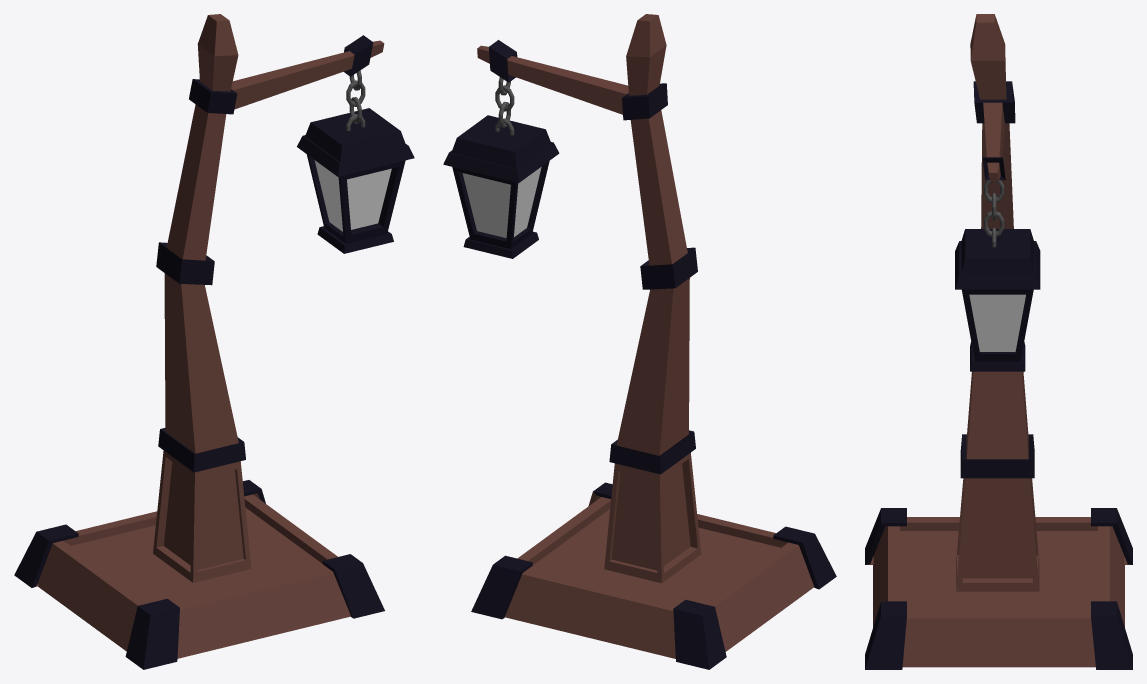
The model's file is Lamp.fbx.
The picture shows the model from 3 angles, left to right: view 1: azimuth 30°, elevation 25°; view 2: azimuth 150°, elevation 25°; view 3: azimuth 270°, elevation 25°; orthographic projection. The views are drawn at different scales.
Parts seen in each view (by area): view 1: Torus.004; view 2: Torus.004; view 3: Torus.004.
Boxes of the visible parts, x1,y1,x2,y2 form: Torus.004: (14,14,414,669); Torus.004: (443,14,836,669); Torus.004: (865,14,1132,669).
Bounding box in the file's own units: 339 × 596 × 241.
